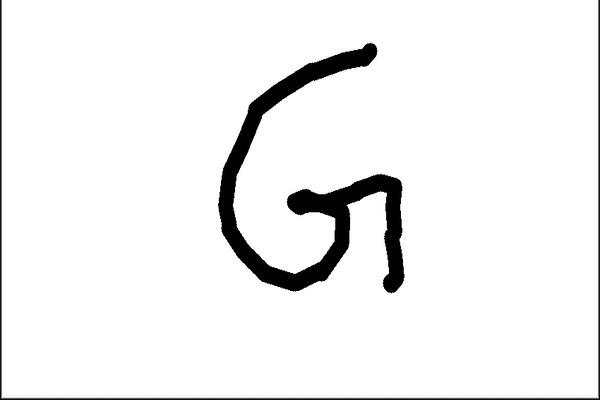G: (215, 40, 413, 299)
